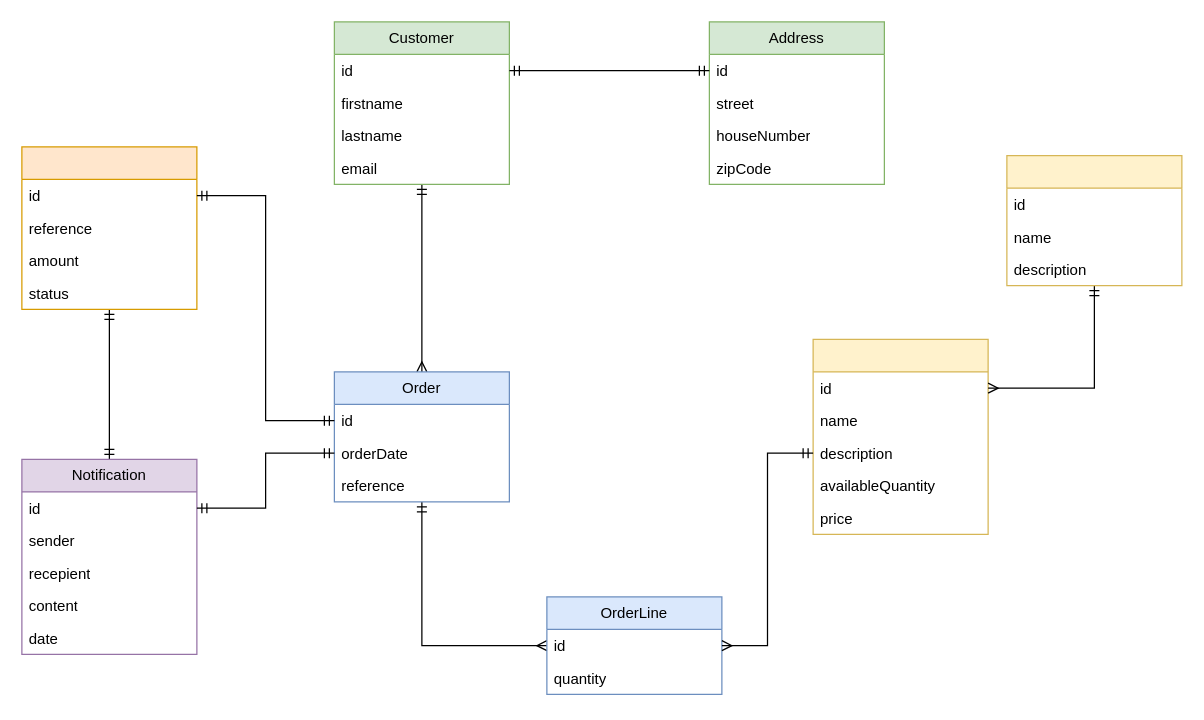
Some shapes in this 1204 by 720 pixel diagram are drawn without their labels. Each missing label, with the box of its shape:
Category: (1006, 154, 1182, 286)
Payment: (21, 146, 197, 309)
Product: (812, 338, 988, 534)
